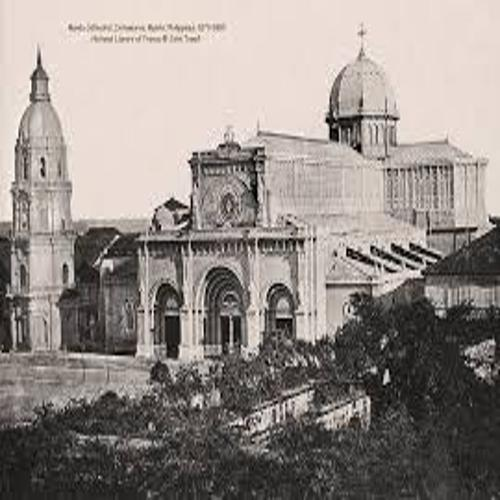Manila Cathedral Church: (5, 14, 495, 355)
